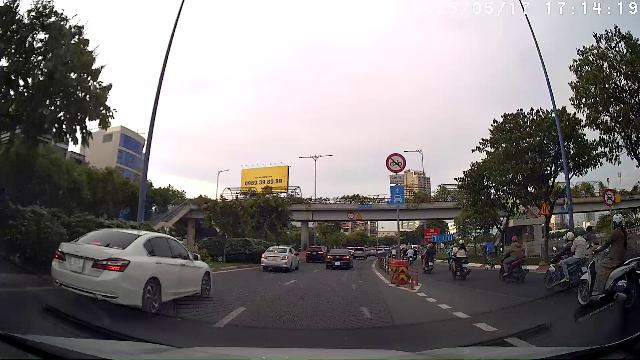103a-cam-oto: (602, 189, 616, 207)
